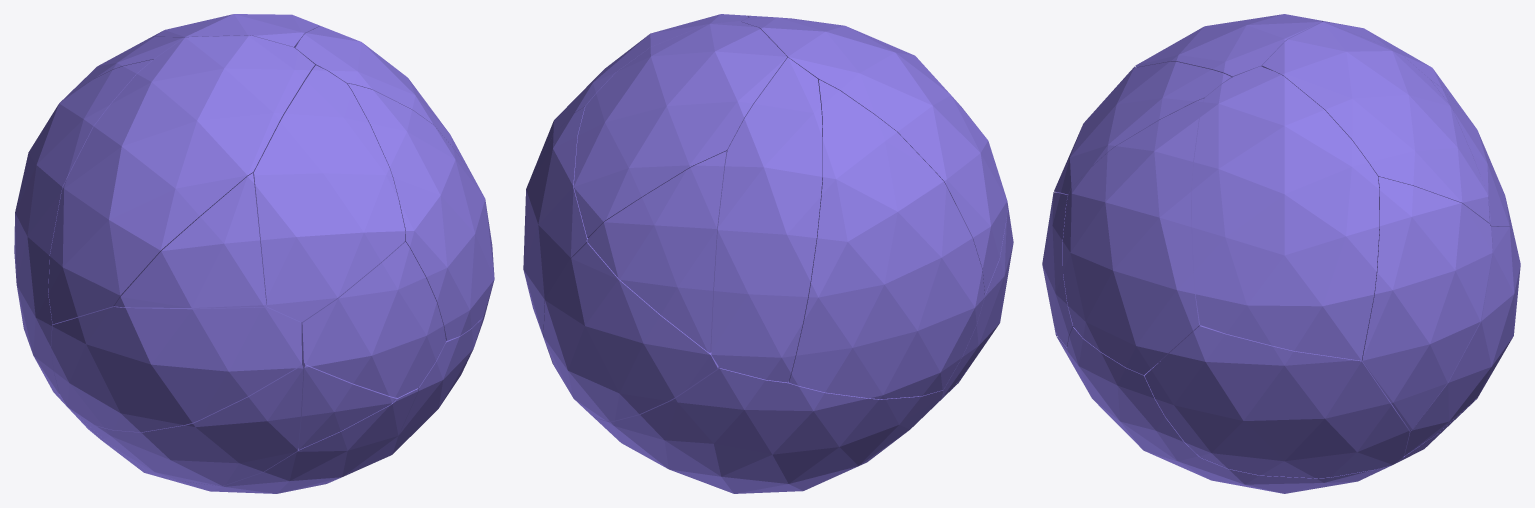
File: snowballFract.fbx
3 views of the same model, side by side, from view 1: azimuth 30°, elevation 25°; view 2: azimuth 150°, elevation 25°; view 3: azimuth 270°, elevation 25° (orthographic).
Parts seen in each view (by area): view 1: SnowBall_cell.007, SnowBall_cell.015, SnowBall_cell, SnowBall_cell.005, SnowBall_cell.001, SnowBall_cell.016, SnowBall_cell.008, SnowBall_cell.014, SnowBall_cell.012, SnowBall_cell.004, SnowBall_cell.013, SnowBall_cell.003 (+2 smaller); view 2: SnowBall_cell.008, SnowBall_cell.006, SnowBall_cell.011, SnowBall_cell.002, SnowBall_cell.007, SnowBall_cell.018, SnowBall_cell.019, SnowBall_cell.009, SnowBall_cell, SnowBall_cell.004; view 3: SnowBall_cell.004, SnowBall_cell.010, SnowBall_cell.005, SnowBall_cell.009, SnowBall_cell.002, SnowBall_cell.015, SnowBall_cell.018, SnowBall_cell.003, SnowBall_cell.007, SnowBall_cell.017, SnowBall_cell.001, SnowBall_cell.019 (+1 smaller).
Boxes of the visible parts, box(x1,y1,x2,y2) form: SnowBall_cell.007: box(48, 35, 314, 324); SnowBall_cell.015: box(254, 65, 405, 322); SnowBall_cell: box(51, 303, 301, 432); SnowBall_cell.005: box(347, 83, 494, 340); SnowBall_cell.001: box(301, 241, 446, 397); SnowBall_cell.016: box(82, 364, 303, 485); SnowBall_cell.008: box(14, 59, 153, 393); SnowBall_cell.014: box(114, 173, 266, 308); SnowBall_cell.012: box(167, 388, 418, 493); SnowBall_cell.004: box(295, 26, 472, 175); SnowBall_cell.013: box(298, 359, 396, 449); SnowBall_cell.003: box(367, 311, 485, 465); SnowBall_cell.008: box(789, 79, 984, 399); SnowBall_cell.006: box(711, 57, 822, 382); SnowBall_cell.011: box(591, 367, 943, 493); SnowBall_cell.002: box(573, 22, 787, 238); SnowBall_cell.007: box(741, 16, 1007, 294); SnowBall_cell.018: box(543, 242, 718, 421); SnowBall_cell.019: box(587, 151, 726, 352); SnowBall_cell.009: box(523, 107, 587, 364); SnowBall_cell: box(939, 208, 1013, 400); SnowBall_cell.004: box(536, 14, 748, 164); SnowBall_cell.004: box(1191, 66, 1379, 360); SnowBall_cell.010: box(1144, 325, 1409, 478); SnowBall_cell.005: box(1062, 98, 1204, 375); SnowBall_cell.009: box(1361, 176, 1492, 431); SnowBall_cell.002: box(1262, 22, 1489, 223); SnowBall_cell.015: box(1054, 61, 1231, 194); SnowBall_cell.018: box(1394, 226, 1520, 455); SnowBall_cell.003: box(1067, 327, 1200, 460); SnowBall_cell.007: box(1135, 14, 1322, 77); SnowBall_cell.017: box(1149, 453, 1390, 493); SnowBall_cell.001: box(1042, 192, 1073, 346); SnowBall_cell.019: box(1430, 80, 1512, 229).
Bounding box in the file's own units: 144 × 143 × 143.
